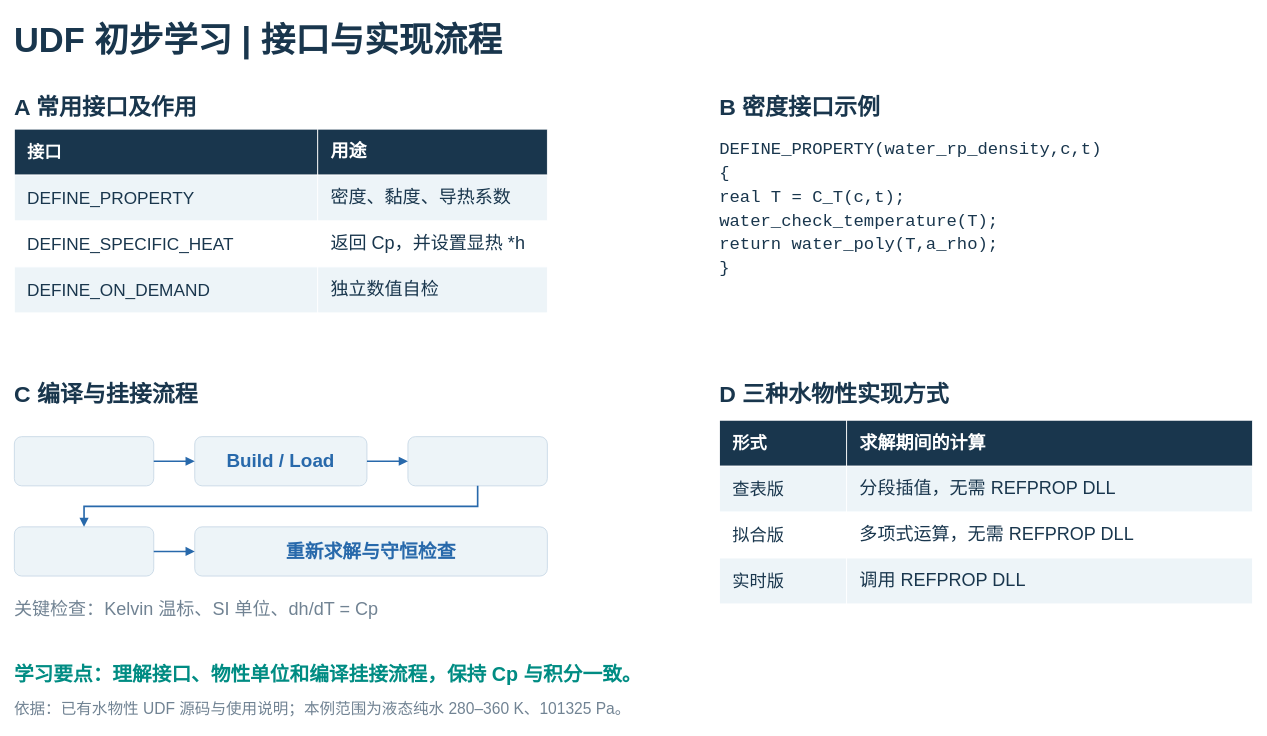
Some shapes in this 1267 by 736 pixel diagram are drawn without their labels. The box of each missing label's shape, as (x1, y1, x2, y2) in pixels:
按需自检: (14, 526, 154, 576)
材料挂接: (407, 436, 547, 486)
编写源码: (14, 436, 154, 486)
